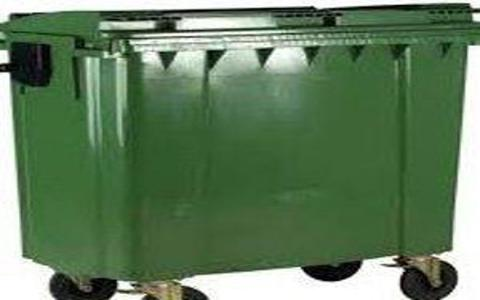Proper garbage: (3, 2, 480, 298)
